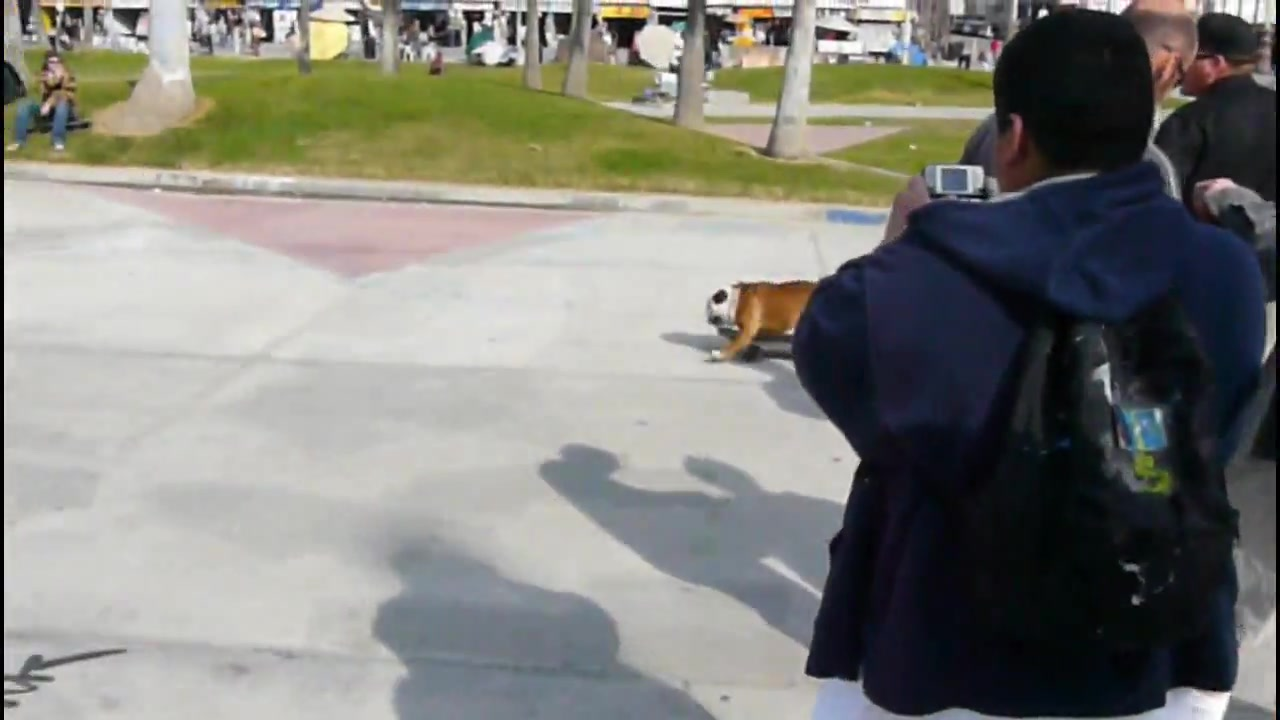dog: (702, 278, 814, 362)
